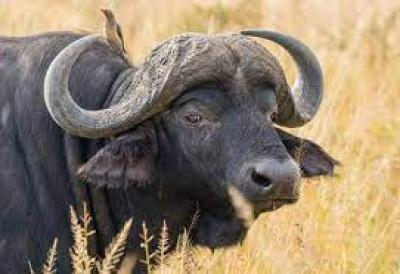buffalo: (0, 9, 338, 273)
